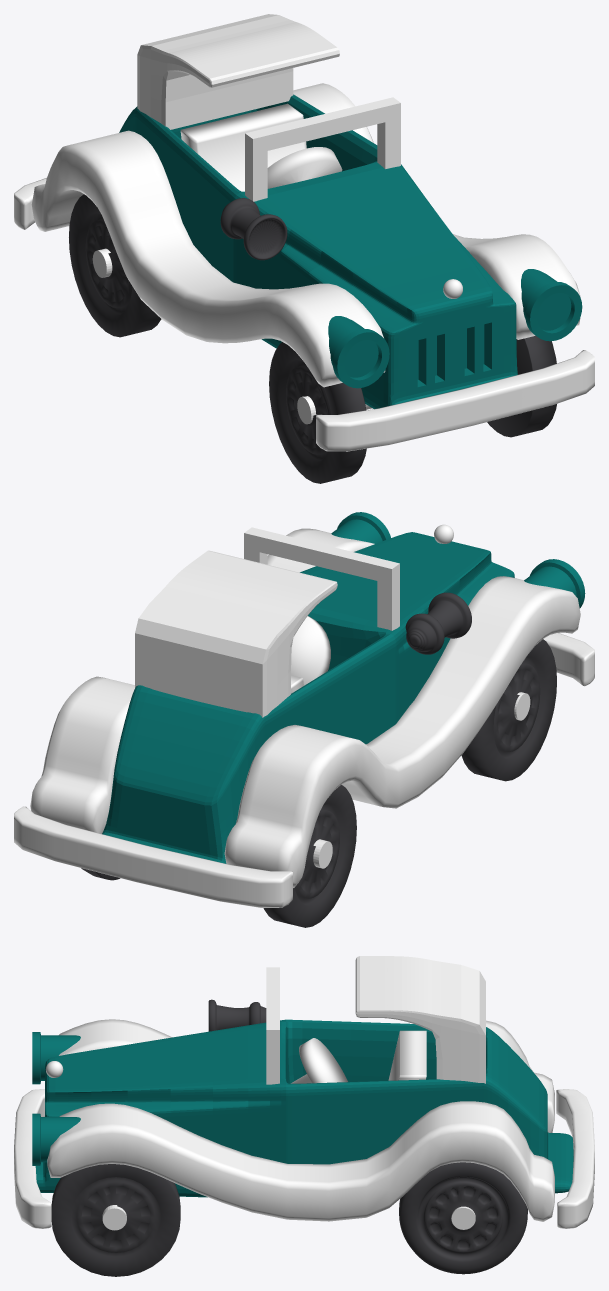
Rendered from car-demo.glb.
3 views of the same model, one above another, from view 1: azimuth 30°, elevation 25°; view 2: azimuth 150°, elevation 25°; view 3: azimuth 270°, elevation 25° (orthographic). The views are drawn at different scales.
Parts seen in each view (by area): view 1: Cube, Cube.001, Cube.005, Cube.002, wheel-fr, wheel-br, Cube.003, Cube.004, Cylinder.003, Cylinder, Cylinder.005, wheel-fl (+1 smaller); view 2: Cube.001, Cube, Cube.005, Cube.002, wheel-fr, wheel-br, Cube.003, Cylinder.005, Cylinder.004, Cylinder.003, Cylinder; view 3: Cube, Cube.001, wheel-fl, Cube.005, wheel-bl, Cube.002, Cube.004, Cube.003, Cylinder.004, Cylinder, Cylinder.005, Cylinder.003 (+2 smaller).
Part boxes in pixels (x1,y1,x2,y2): Cube: (119, 94, 517, 408); Cube.001: (31, 83, 582, 387); Cube.005: (137, 14, 339, 129); Cube.002: (14, 178, 594, 451); wheel-fr: (269, 342, 366, 483); wheel-br: (69, 194, 161, 337); Cube.003: (245, 97, 400, 201); Cube.004: (180, 103, 306, 191); Cylinder.003: (328, 316, 389, 388); Cylinder: (521, 269, 582, 341); Cylinder.005: (220, 198, 287, 260); wheel-fl: (487, 335, 556, 437); Cube.001: (30, 528, 580, 887); Cube: (102, 532, 514, 863); Cube.005: (135, 550, 337, 717); Cube.002: (14, 633, 594, 907); wheel-fr: (461, 639, 556, 781); wheel-br: (263, 784, 356, 927); Cube.003: (244, 527, 399, 630); Cylinder.005: (405, 592, 471, 654); Cylinder.004: (291, 616, 330, 685); Cylinder.003: (524, 559, 585, 608); Cylinder: (331, 512, 390, 543); Cube: (35, 1019, 573, 1197); Cube.001: (47, 1019, 554, 1221); wheel-fl: (51, 1164, 180, 1276); Cube.005: (355, 956, 485, 1083); wheel-bl: (399, 1162, 527, 1274); Cube.002: (14, 1089, 594, 1228); Cube.004: (388, 1030, 426, 1080); Cube.003: (266, 967, 279, 1084); Cylinder.004: (291, 1038, 347, 1083); Cylinder: (32, 1113, 80, 1165); Cylinder.005: (208, 999, 266, 1031); Cylinder.003: (32, 1032, 80, 1084).
Size of the model in its own units: 4.19 by 4.24 by 8.98.
